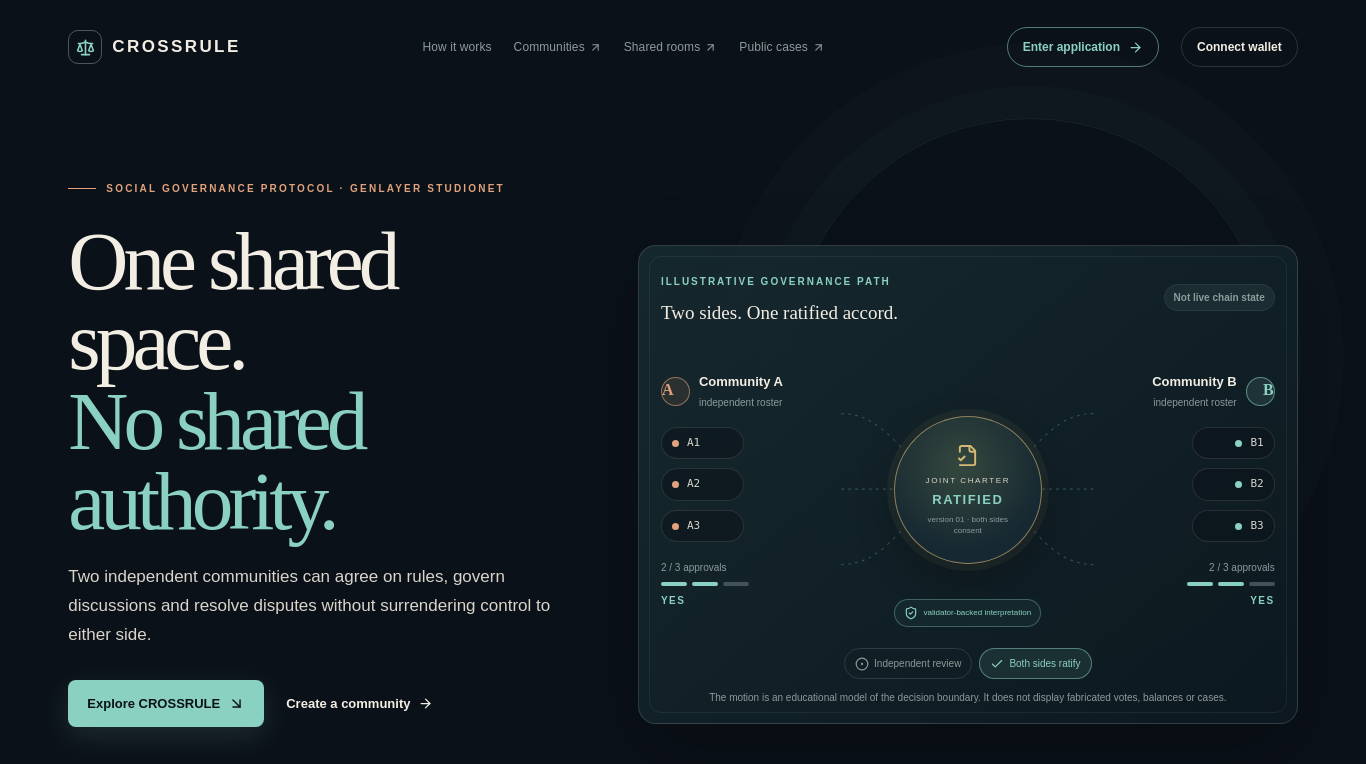
Scenario: Crossrule public and operational frontend › exposes shared discussion and governance navigation
Click the button "Shared rooms" at (670, 47), box 624,38 -> 717,56
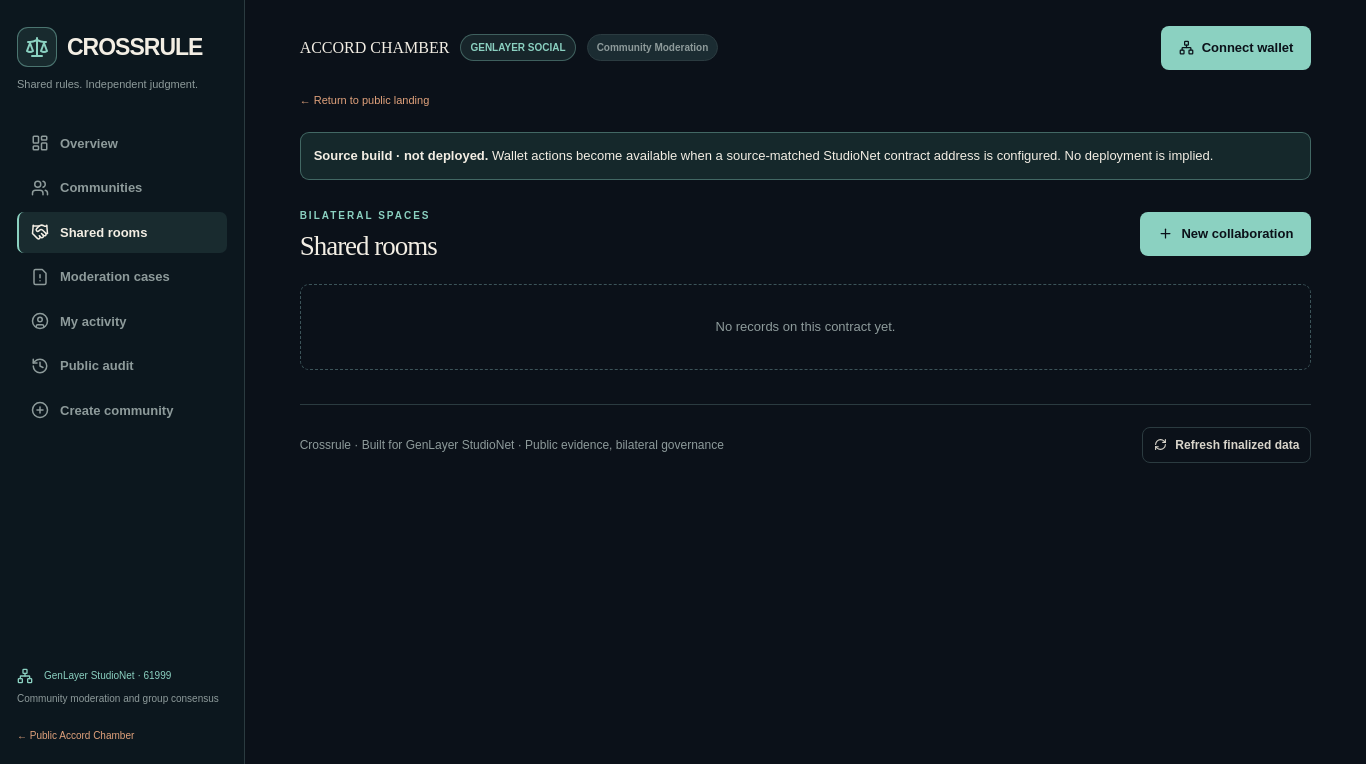
Result: the button "New collaboration" is shown
Click the button "New collaboration" at (1226, 234), box 1140,212 -> 1311,256
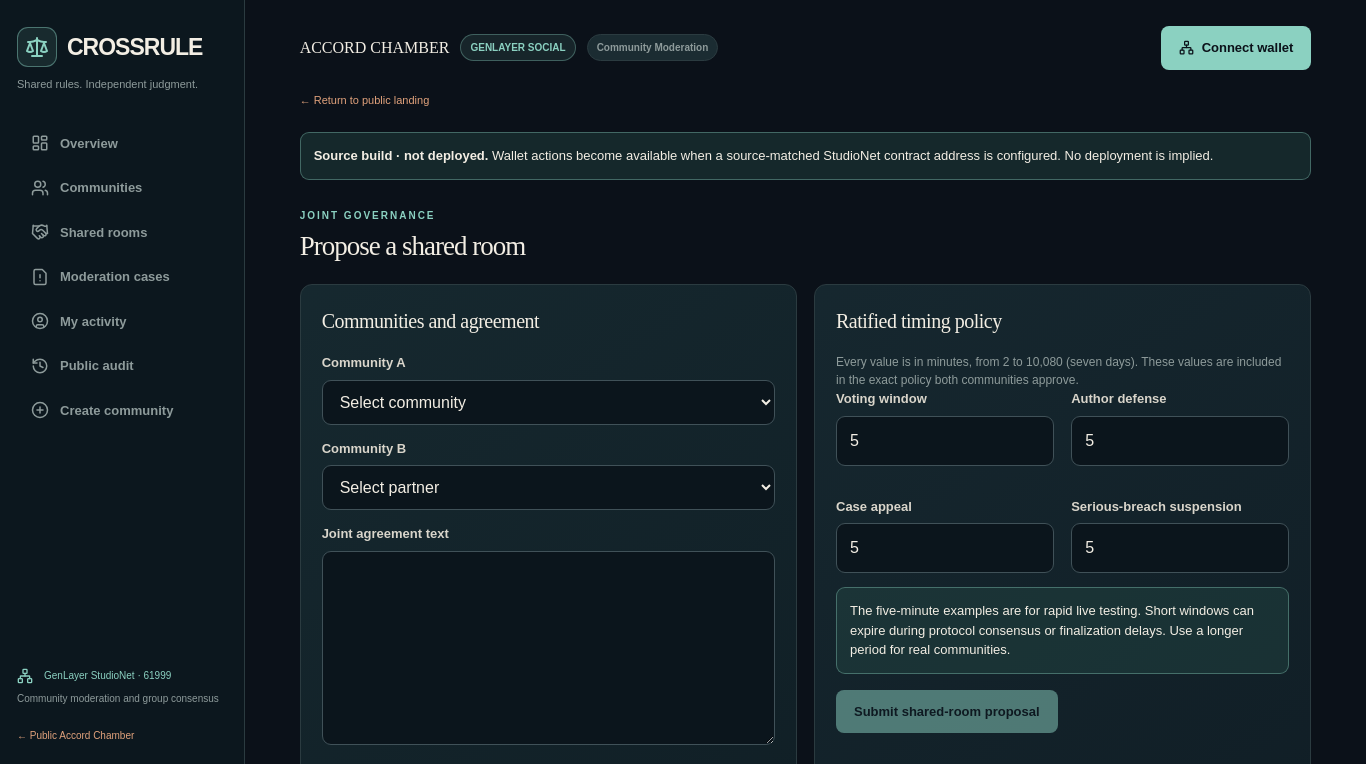
Result: the text box labelled "Joint agreement text" is shown at 322,550 -> 775,744
Result: the number field labelled "Case appeal" is shown at 836,523 -> 1054,573
